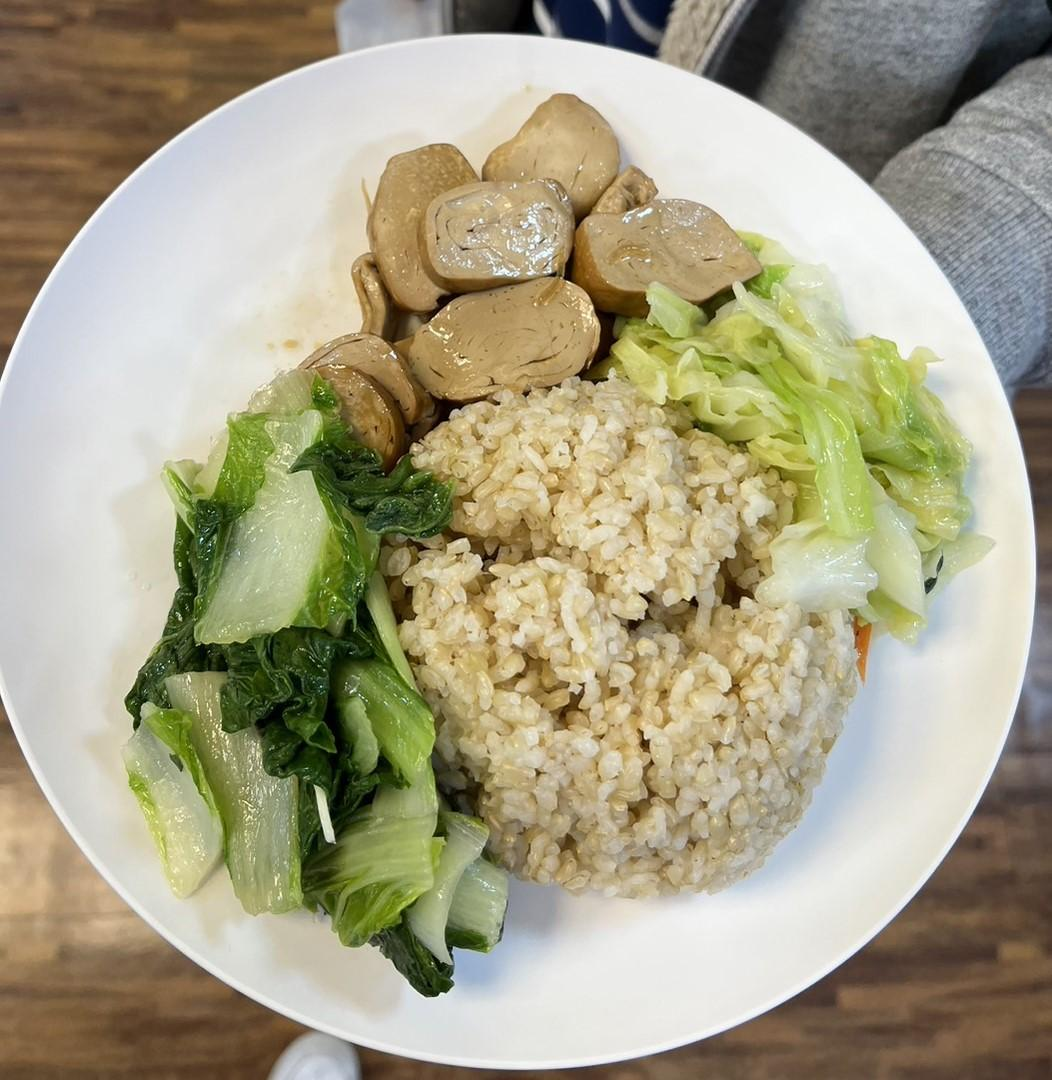big fried chicken leg: (0, 23, 1041, 1080)
box: (411, 388, 859, 894)
braised fish fillet: (93, 400, 521, 988), (299, 92, 753, 455), (618, 266, 977, 630)
